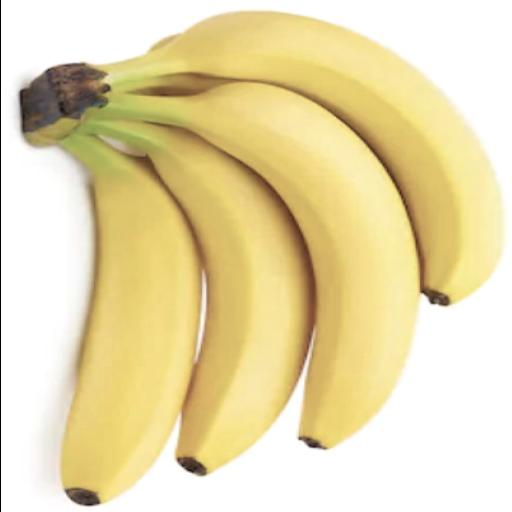banana: (95, 12, 504, 305), (99, 83, 419, 448), (82, 121, 313, 475), (59, 135, 199, 505), (116, 74, 226, 95), (148, 34, 178, 51)
